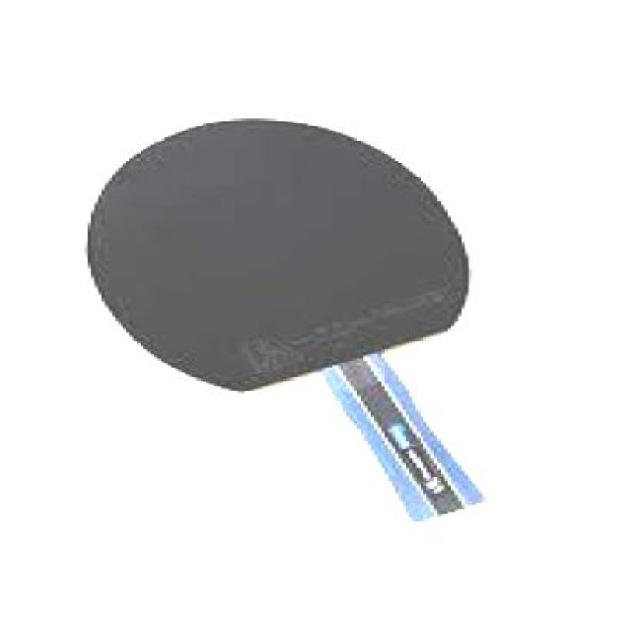table_tennis_racket: (69, 107, 481, 393)
